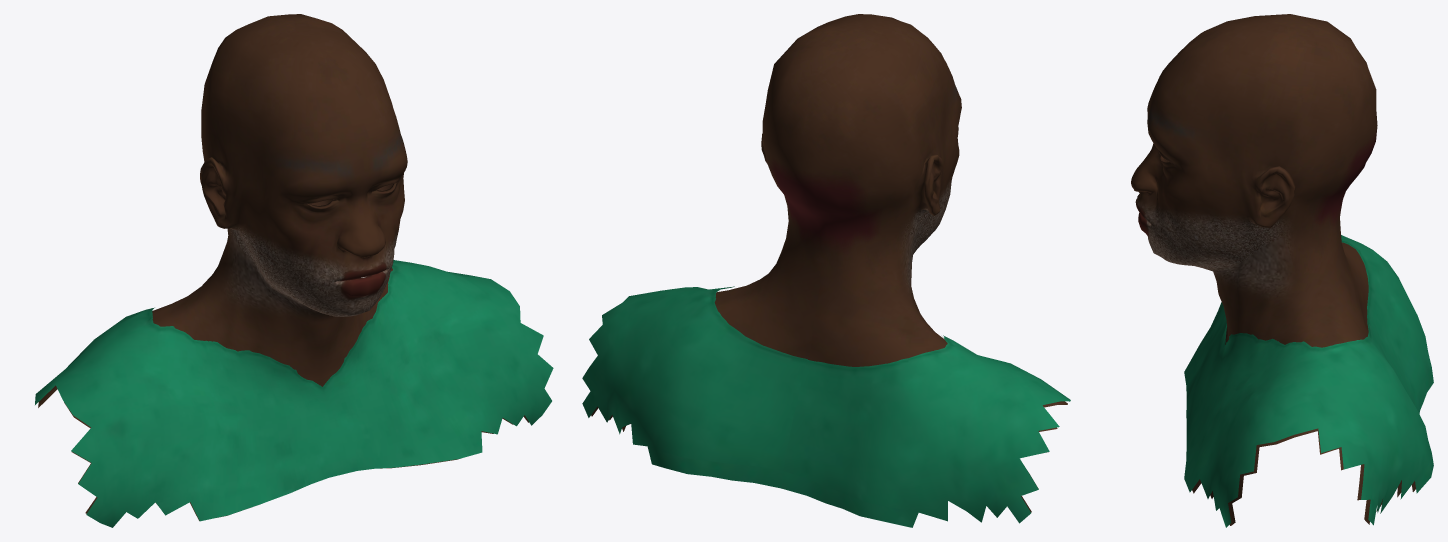
The model's file is joseph.glb.
The picture shows the model from 3 angles, left to right: view 1: azimuth 30°, elevation 25°; view 2: azimuth 150°, elevation 25°; view 3: azimuth 270°, elevation 25°; orthographic projection. The views are drawn at different scales.
Visible parts, largest first — view 1: shirt, head; view 2: shirt, head; view 3: head, shirt.
Part boxes in pixels (x1=…): shirt: x1=35, y1=260, x2=553, y2=527; head: x1=38, y1=14, x2=528, y2=520; shirt: x1=582, y1=286, x2=1070, y2=527; head: x1=591, y1=14, x2=1067, y2=512; head: x1=1131, y1=14, x2=1415, y2=525; shirt: x1=1184, y1=235, x2=1433, y2=527.
Size of the model in its own units: 4.64 by 4 by 2.69.
Materials: 4 (2 with a texture image).
